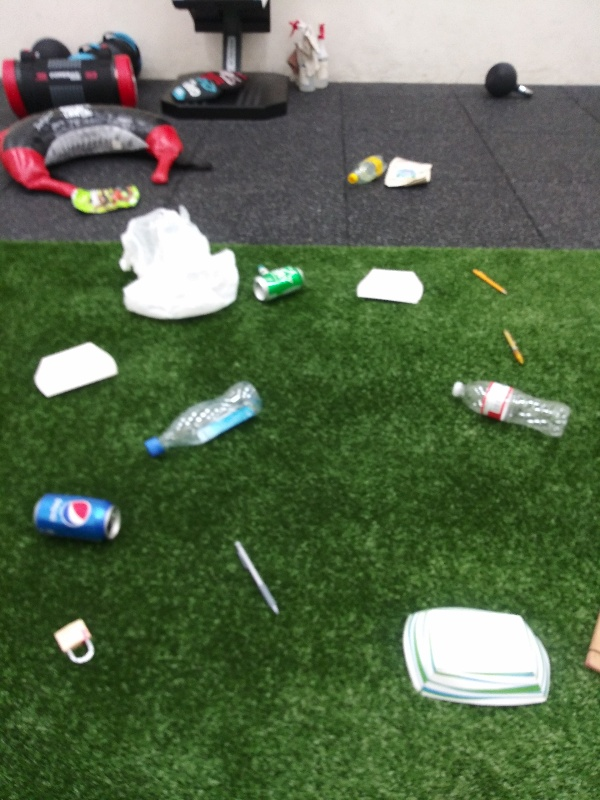bag: (69, 182, 145, 214), (381, 152, 438, 192)
bottle: (141, 378, 268, 461), (445, 378, 576, 442), (343, 147, 391, 190)
can: (29, 490, 124, 544), (251, 260, 313, 308)
plate: (398, 605, 554, 715), (31, 335, 121, 400), (348, 261, 425, 311)
